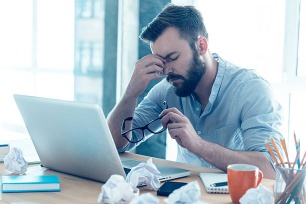male: (144, 10, 213, 98)
